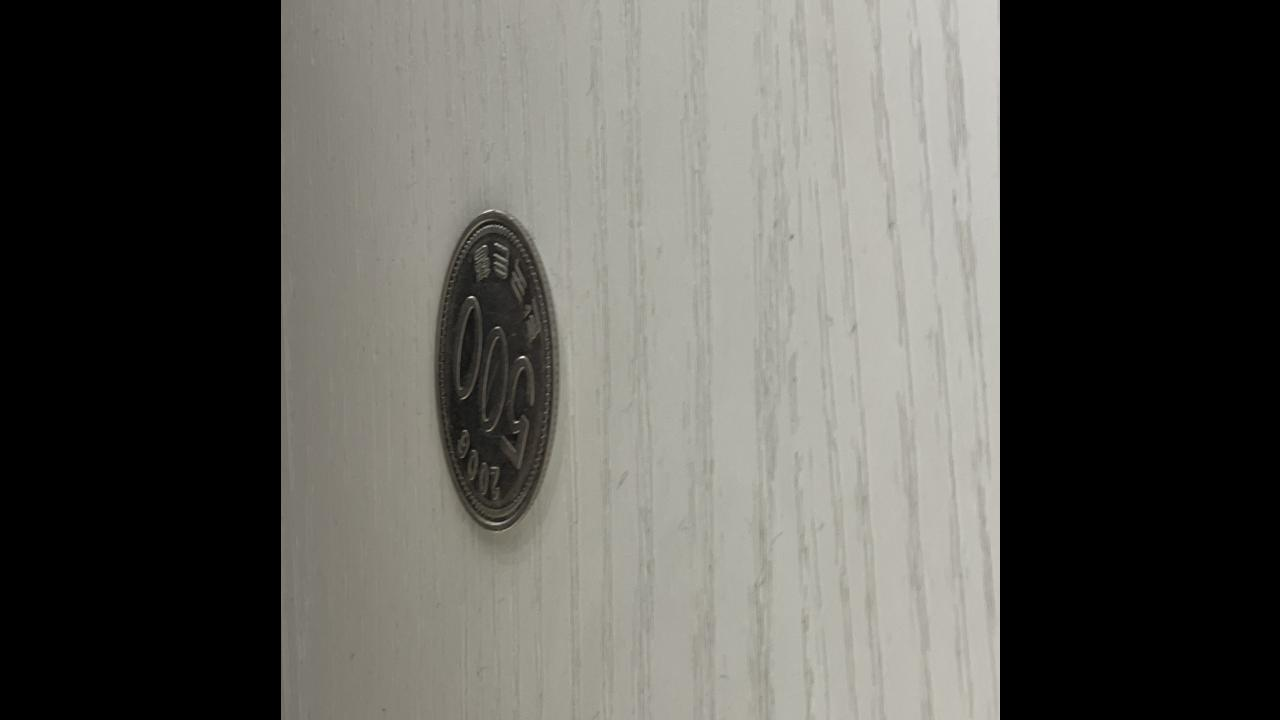coin: (437, 211, 555, 532)
